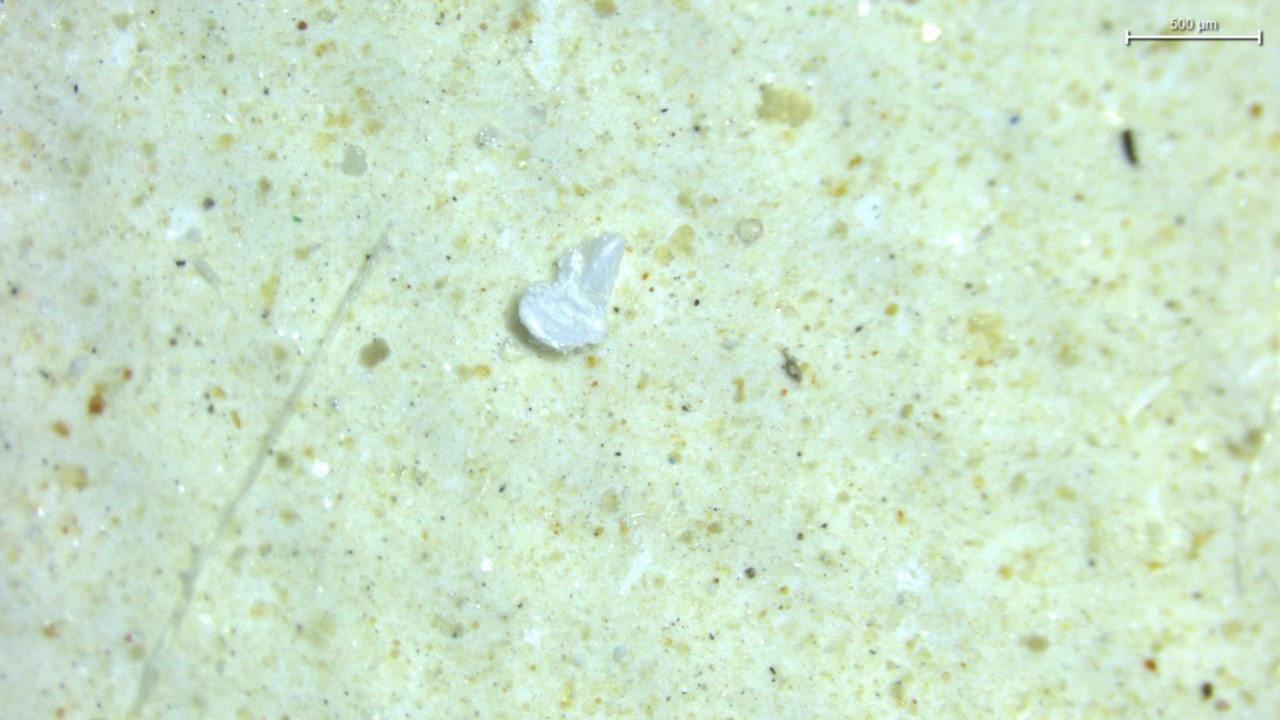microplastic_fragment: (518, 234, 624, 351)
